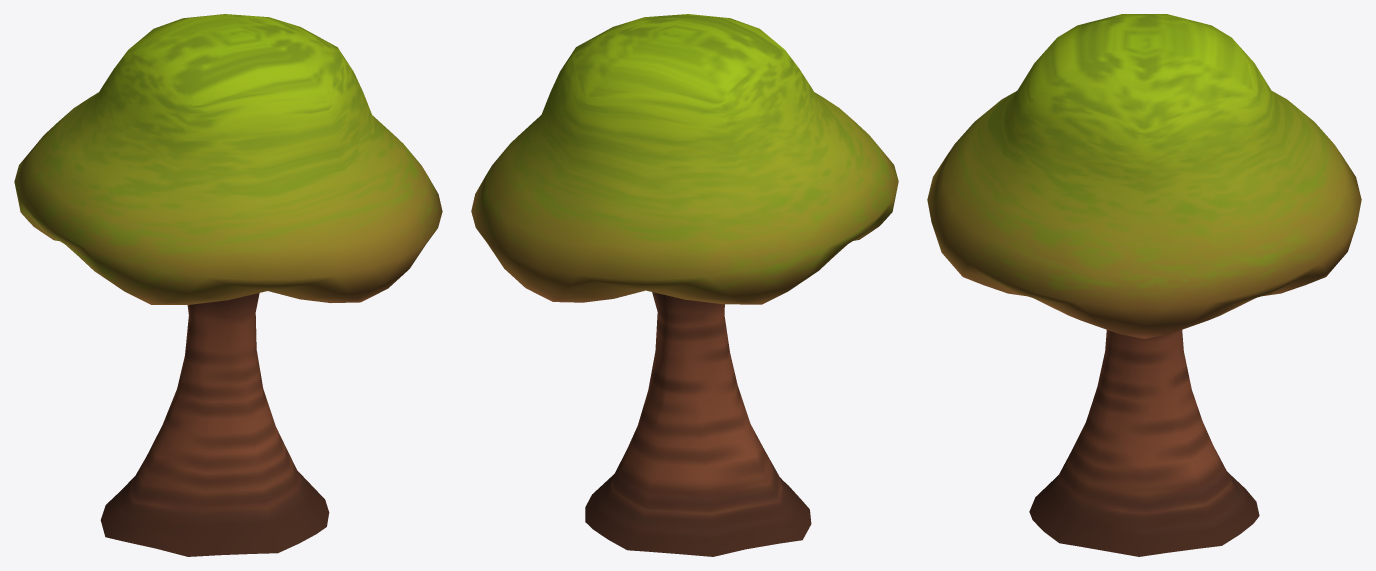
Rendered from mush2.obj.
3 renders of one model, left to right at view 1: azimuth 30°, elevation 25°; view 2: azimuth 150°, elevation 25°; view 3: azimuth 270°, elevation 25°, orthographic.
Visible parts, largest first — view 1: ColobotMesh_1_ColobotMesh_, ColobotMesh_1.001_ColobotMesh_.001; view 2: ColobotMesh_1_ColobotMesh_, ColobotMesh_1.001_ColobotMesh_.001; view 3: ColobotMesh_1_ColobotMesh_, ColobotMesh_1.001_ColobotMesh_.001.
Boxes of the visible parts, x1,y1,x2,y2 form: ColobotMesh_1_ColobotMesh_: (14, 14, 442, 304); ColobotMesh_1.001_ColobotMesh_.001: (100, 293, 329, 556); ColobotMesh_1_ColobotMesh_: (471, 14, 898, 304); ColobotMesh_1.001_ColobotMesh_.001: (585, 292, 811, 556); ColobotMesh_1_ColobotMesh_: (927, 14, 1361, 338); ColobotMesh_1.001_ColobotMesh_.001: (1029, 330, 1259, 556).
Bounding box in the file's own units: 9.9 × 12.17 × 10.
